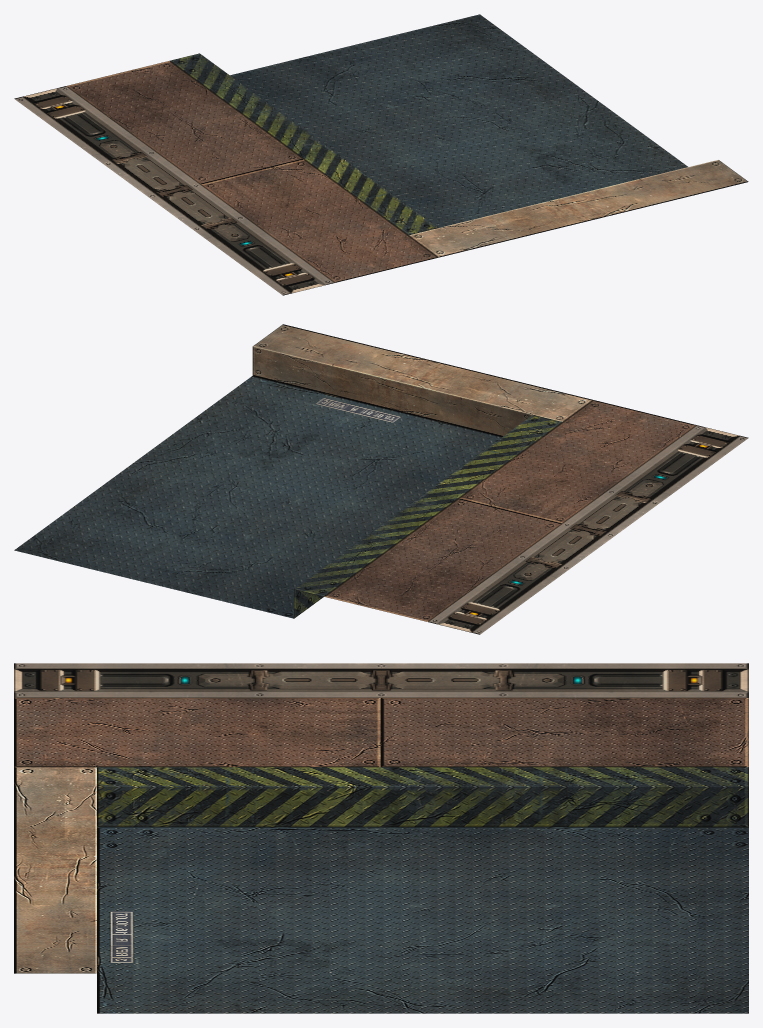
Rendered from mprw_floor_bay.FBX.
The picture shows the model from 3 angles, top to bottom: view 1: azimuth 30°, elevation 25°; view 2: azimuth 150°, elevation 25°; view 3: azimuth 270°, elevation 25°; orthographic projection. The views are drawn at different scales.
Parts seen in each view (by area): view 1: mprw_floor_bay; view 2: mprw_floor_bay; view 3: mprw_floor_bay.
Part boxes in pixels (bbox=[...]): mprw_floor_bay: bbox=[14, 14, 748, 295]; mprw_floor_bay: bbox=[14, 324, 748, 634]; mprw_floor_bay: bbox=[14, 663, 748, 1013].
Bounding box in the file's own units: 700 × 42.07 × 700.
Materials: 1 (1 with a texture image).
